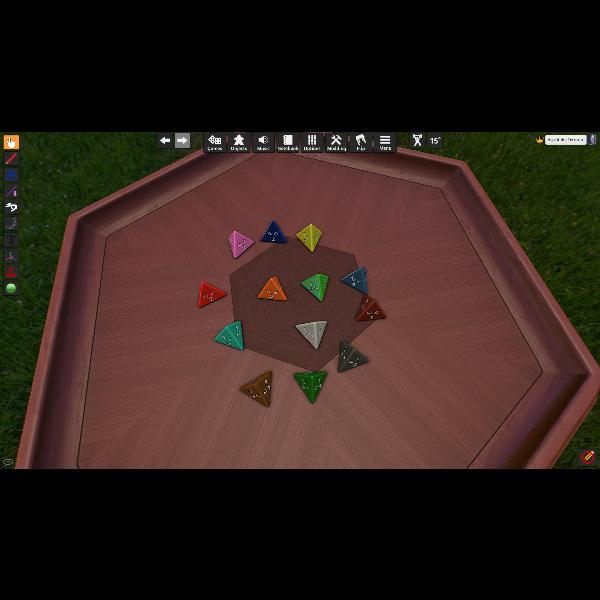d4: (240, 369, 273, 406), (294, 370, 326, 402), (338, 340, 369, 372), (295, 320, 326, 350), (214, 320, 242, 350), (301, 272, 329, 301), (257, 276, 287, 302), (228, 230, 254, 260), (296, 224, 322, 252), (356, 294, 384, 320), (340, 268, 367, 294), (198, 281, 224, 307), (260, 219, 288, 243)
